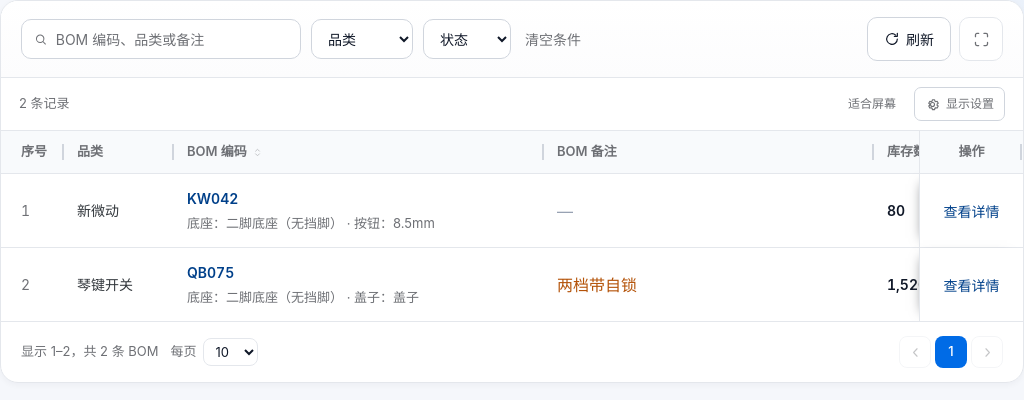
Scenario: 品类下拉筛选库存，选项只含有流水的品类，清空条件恢复
Select "琴键开关" in the dropdown named "按品类筛选": (362, 39) [311,19,413,59]
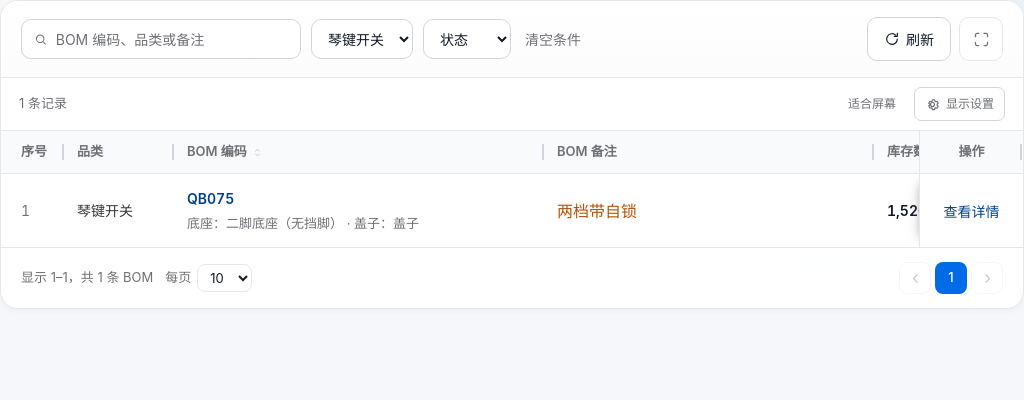
Check: the table shows "QB075", box [187,188,234,209]
Check: the table no longer shows "KW042", box [1,130,1023,247]
Click the button "清空条件": (553, 39) [521,19,585,59]
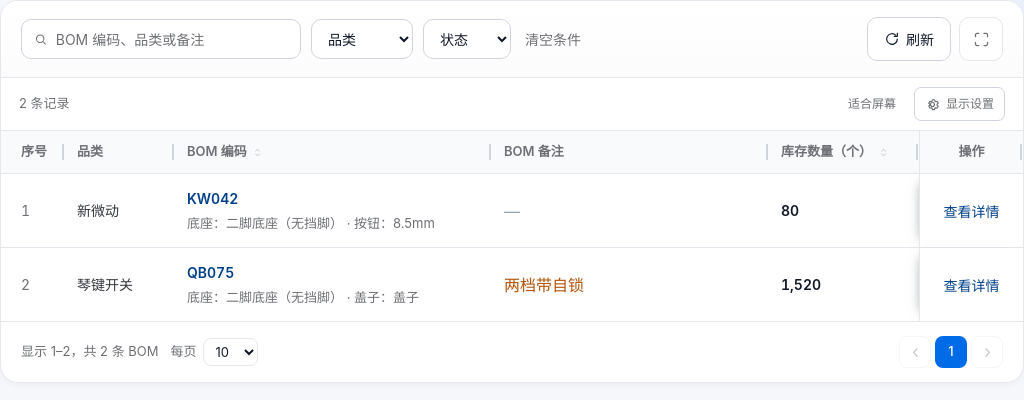
Check: the table shows "KW042", box [187,188,238,209]
